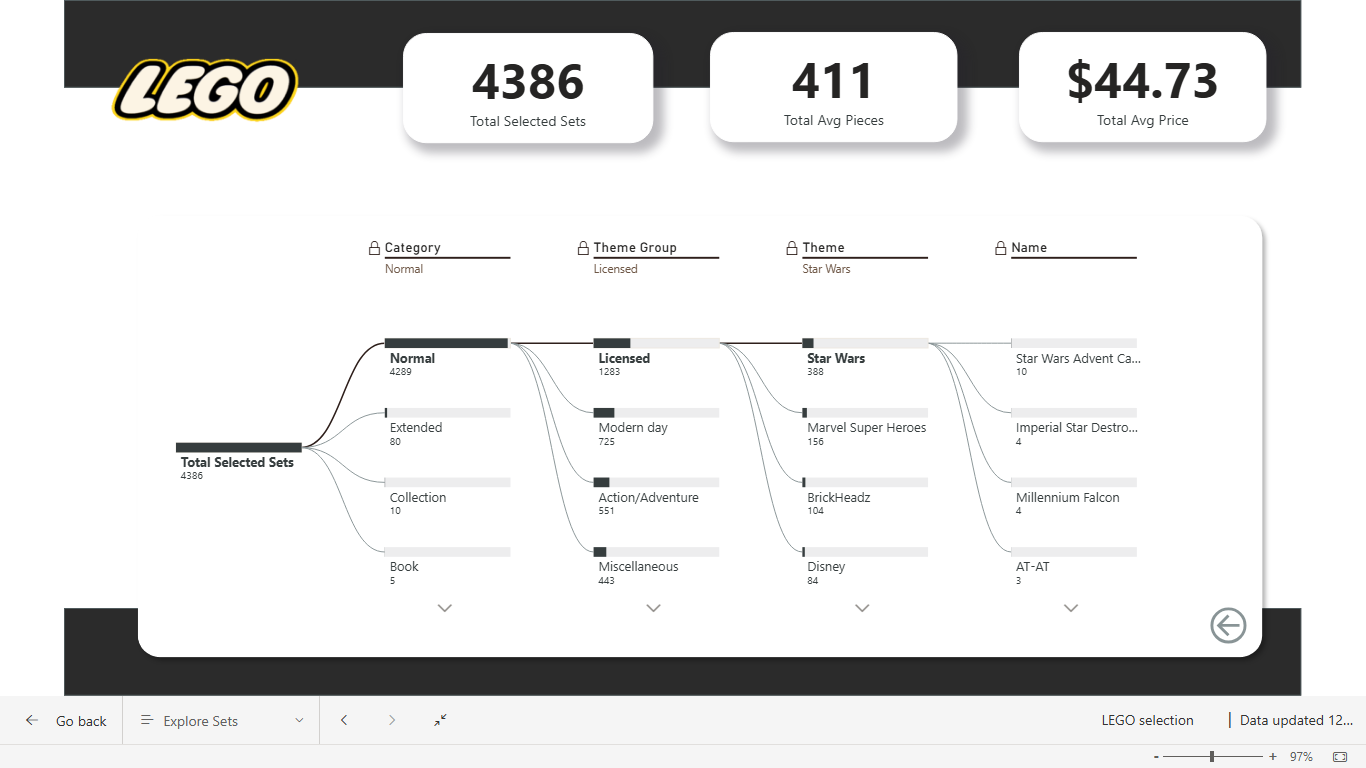

Layout of this report page (visuals, bound fields, positions):
{"tool":"powerbi","page":{"name":"Explore Sets","canvas":[1280,720],"ordinal":2},"visuals":[{"type":"shape","box":[0,0,1280,90.8],"z":0},{"type":"shape","box":[0,629,1280,90.8],"z":1000},{"type":"card","fields":{"Values":["lego_sets.Total Avg Pieces"]},"box":[668.2,33.1,256.3,113.8],"z":2000},{"type":"card","fields":{"Values":["lego_sets.Total Avg Price"]},"box":[987.8,33.1,256.3,113.8],"z":3000},{"type":"image","box":[0,0,281.6,159.8],"z":4000},{"type":"group","id":"g1","title":"Group 1","box":[67.2,214.5,1181.3,474.8],"z":5000},{"type":"decompositionTreeVisual","fields":{"ExplainBy":["lego_sets.category","lego_sets.themeGroup","lego_sets.theme","lego_sets.name"],"Analyze":["lego_sets.Total Selected Sets"]},"box":[86.1,231.2,1143.5,442.7],"z":6000},{"type":"actionButton","box":[1179.2,619.7,50.4,52.9],"z":7000},{"type":"card","fields":{"Values":["lego_sets.Total Selected Sets"]},"box":[350.4,34.3,258.9,114.4],"z":8000},{"type":"shape","box":[67.2,214.5,1181.3,474.8],"z":9000,"group":"g1"}]}

Visuals, with their boxes on the page's 1280x720 design canvas (x1, y1, x2, y2). These are canvas units, not pixel positions in the 1366x768 screenshot, which may show the page scaled, cropped or inside an application window:
shape: box(0, 0, 1280, 91)
shape: box(0, 629, 1280, 720)
card - lego_sets.Total Avg Pieces: box(668, 33, 924, 147)
card - lego_sets.Total Avg Price: box(988, 33, 1244, 147)
image: box(0, 0, 282, 160)
"Group 1" group: box(67, 214, 1248, 689)
decompositionTreeVisual - lego_sets.category x lego_sets.themeGroup: box(86, 231, 1230, 674)
actionButton: box(1179, 620, 1230, 673)
card - lego_sets.Total Selected Sets: box(350, 34, 609, 149)
shape: box(67, 214, 1248, 689)
